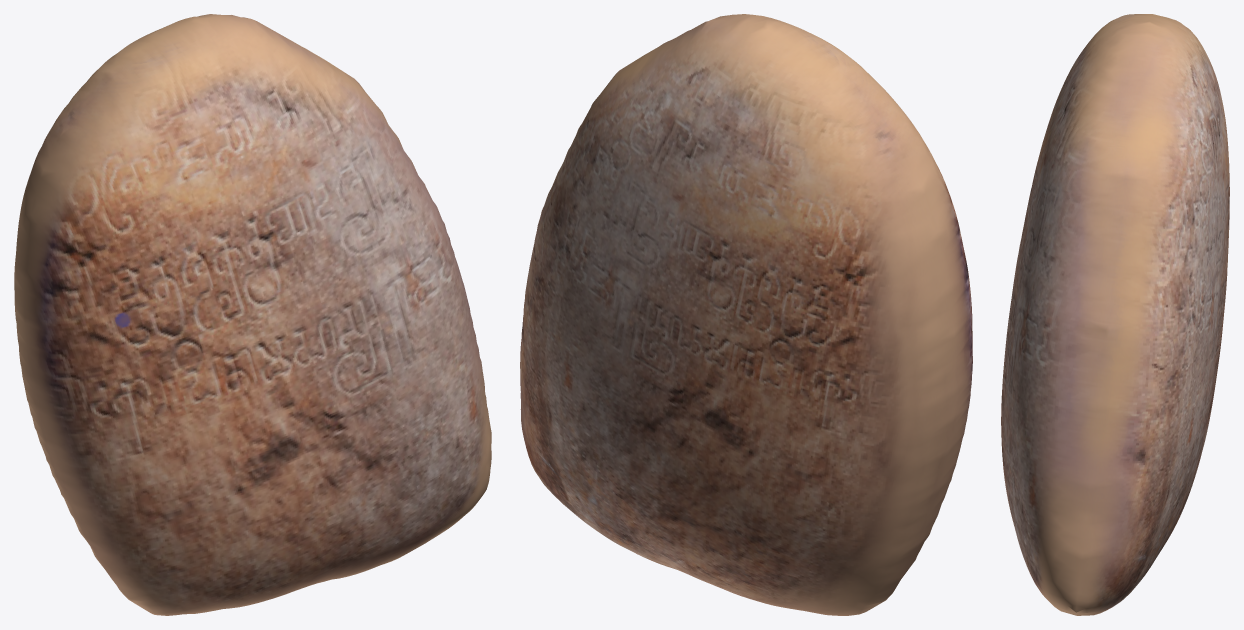
Rendered from prasasti_tugu.glb.
3 renders of one model, left to right at view 1: azimuth 30°, elevation 25°; view 2: azimuth 150°, elevation 25°; view 3: azimuth 270°, elevation 25°, orthographic. The views are drawn at different scales.
Visible parts, largest first — view 1: Object_5; view 2: Object_5; view 3: Object_5.
Boxes of the visible parts, x1,y1,x2,y2 form: Object_5: (14, 14, 491, 615); Object_5: (520, 14, 972, 615); Object_5: (1001, 14, 1229, 615).
Size of the model in its own units: 0.1695 by 0.2112 by 0.0828.
1 material, 1 textured.
